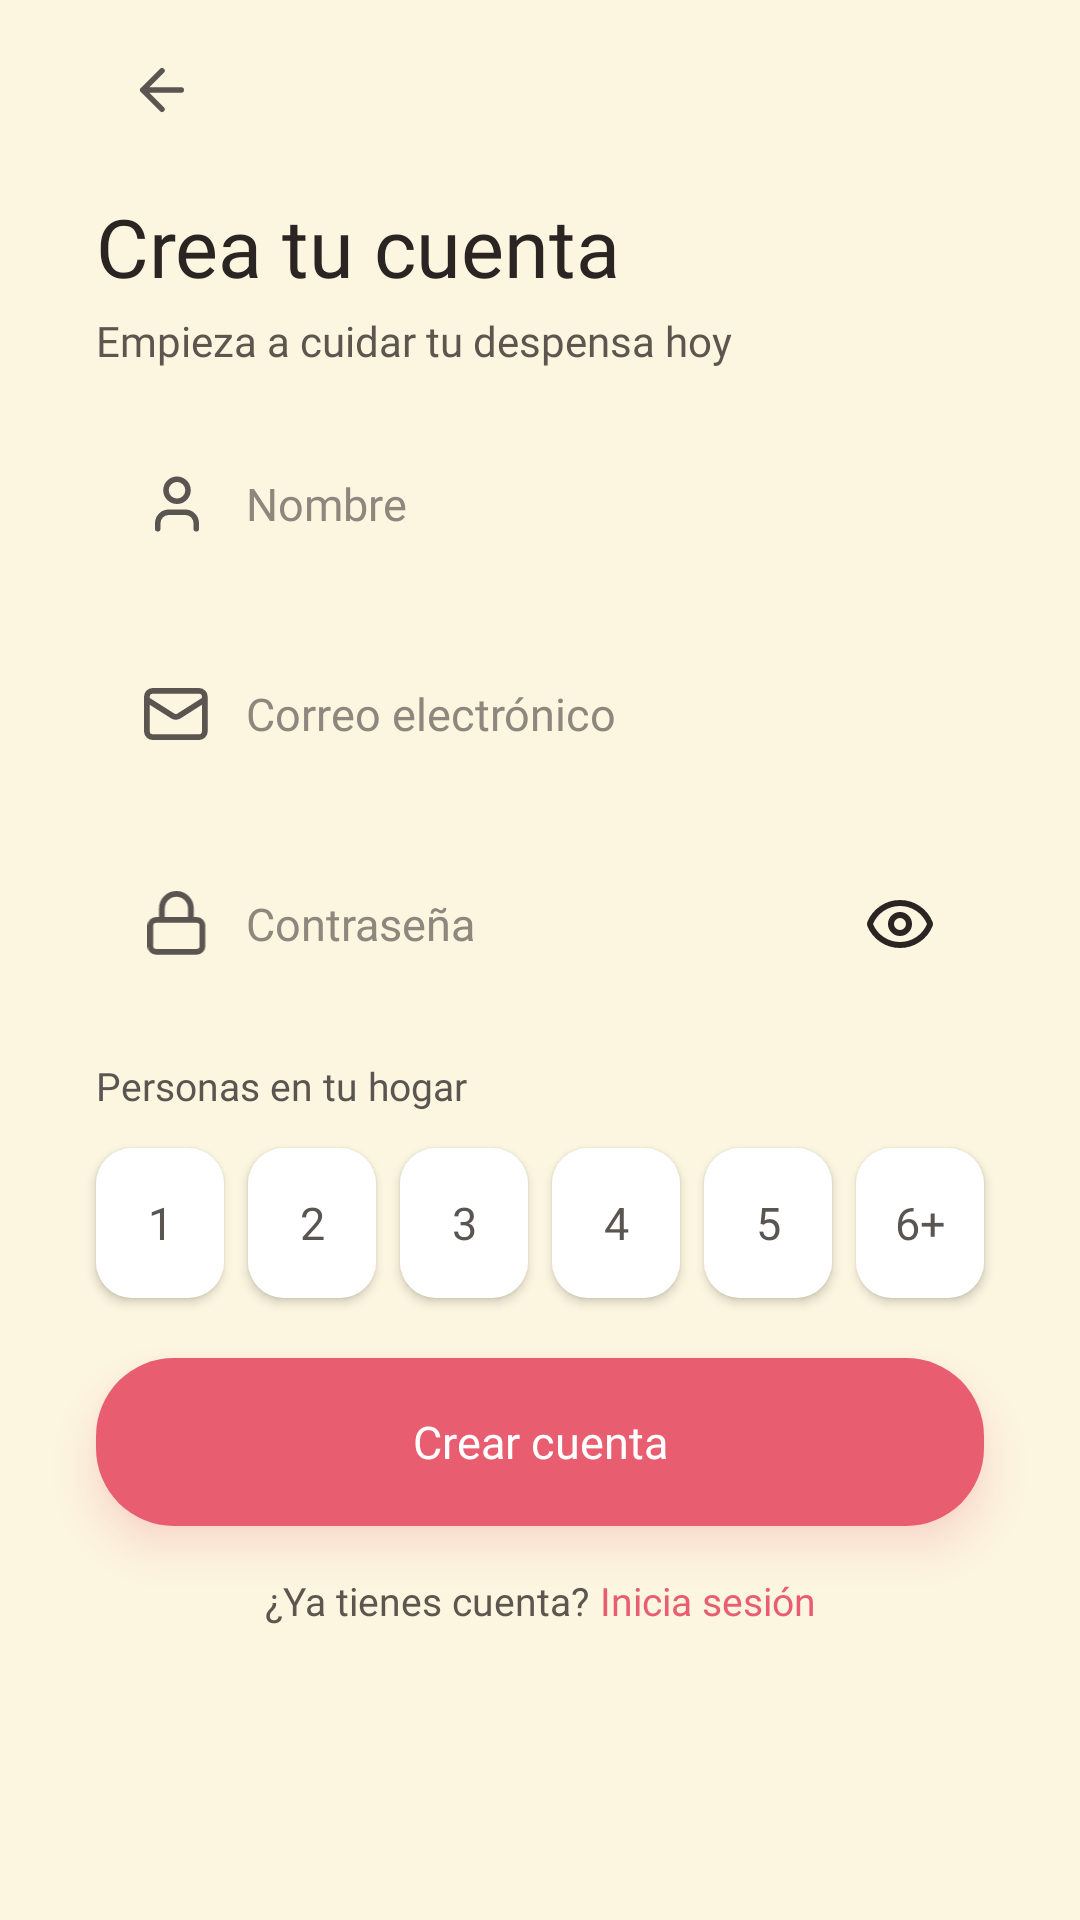

Named icons in this screenshot (1080 × 1920) and their centers, [x,y]:
lock: [176,923]
mail: [176,714]
person: [177,504]
Volver: [162,90]
